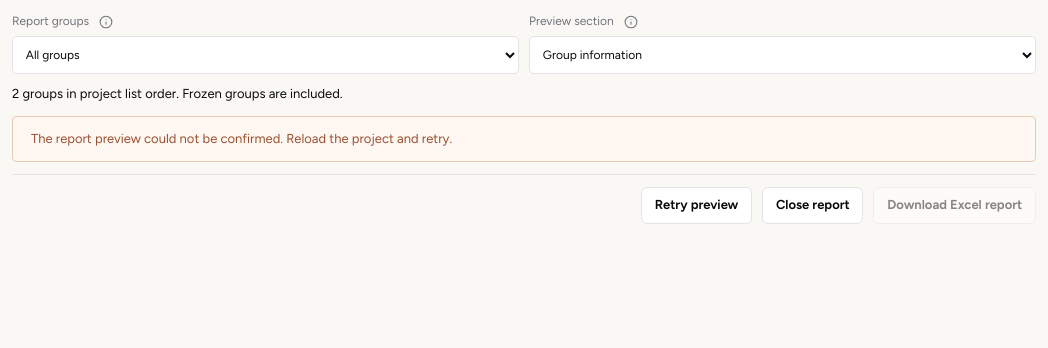
rejects the wrong group order and supports retry without losing scope
The width and height of the screenshot is (1048, 348).
Expected: the message shows "could not be confirmed", x1=31 y1=131 x2=452 y2=146
Click the button "Retry preview" at (696, 205), box x1=641 y1=187 x2=752 y2=224
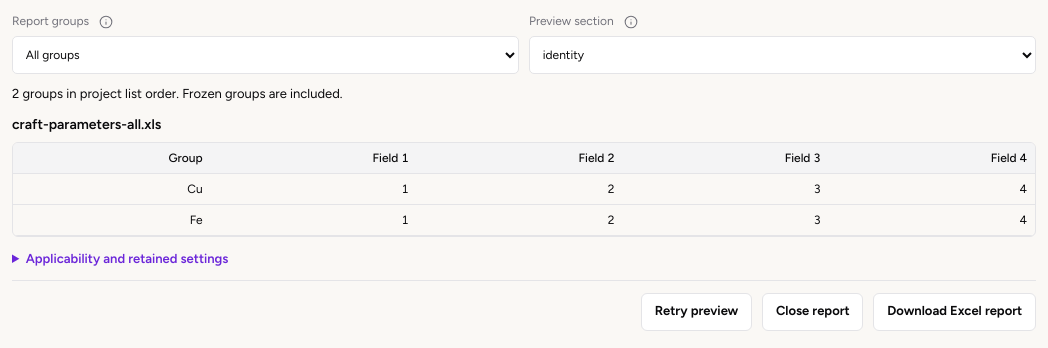
Result: the button "Download Excel report" is enabled at x1=874 y1=293 x2=1036 y2=330
